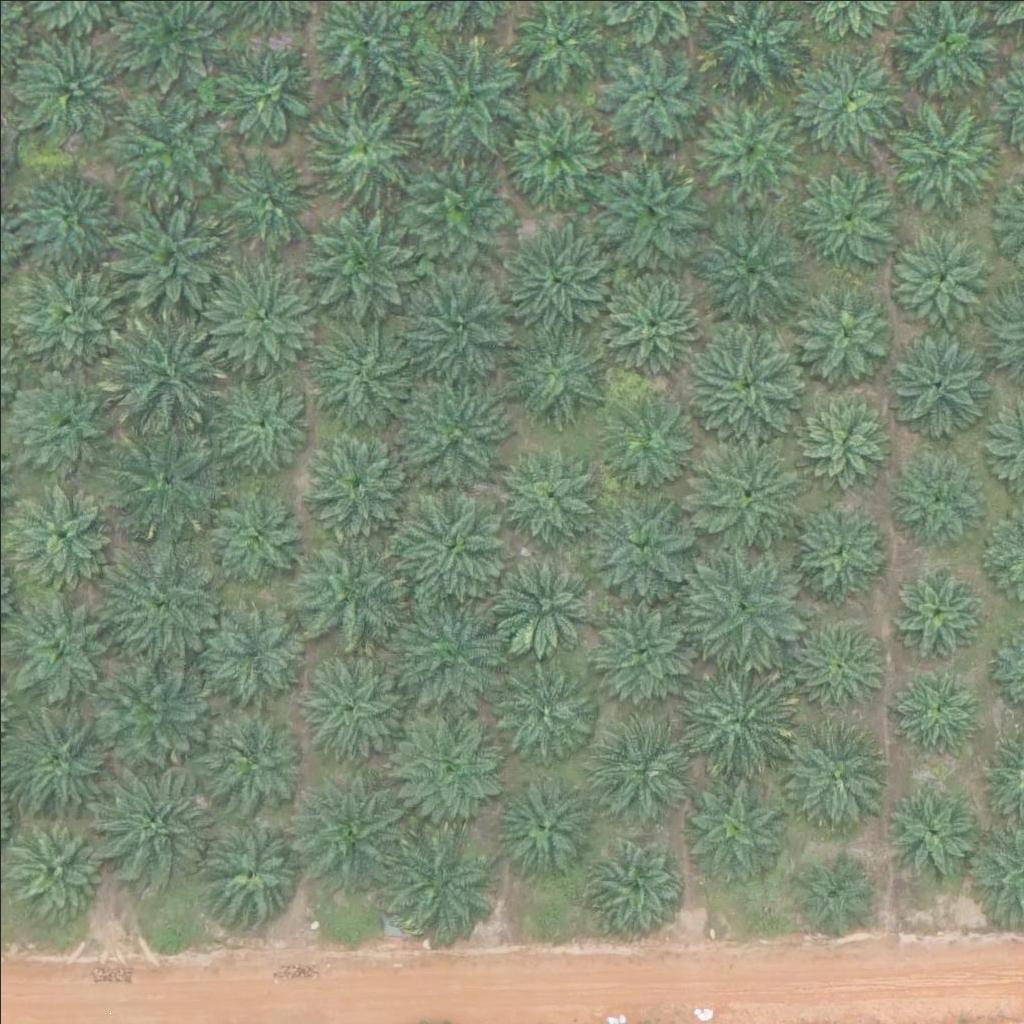Kelapa_Sawit: (110, 193, 223, 307), (216, 32, 329, 146), (304, 425, 417, 539), (310, 92, 423, 206), (694, 92, 807, 206), (879, 327, 992, 440), (17, 255, 130, 368), (6, 698, 119, 811), (92, 652, 205, 765), (112, 548, 225, 661), (194, 705, 307, 818), (301, 769, 414, 882), (300, 648, 413, 761), (307, 308, 420, 421), (387, 820, 500, 933), (394, 703, 507, 816), (390, 488, 503, 601), (397, 386, 510, 499), (502, 304, 615, 417), (687, 543, 800, 656), (692, 436, 805, 549), (687, 332, 800, 445), (699, 206, 812, 319), (786, 716, 899, 829), (886, 93, 999, 206), (197, 814, 309, 928), (305, 200, 417, 314), (400, 276, 512, 390), (500, 89, 612, 203), (682, 770, 794, 884), (6, 35, 118, 148), (7, 367, 119, 480), (99, 764, 211, 877), (106, 424, 218, 537), (105, 311, 217, 424), (113, 84, 225, 197), (204, 258, 316, 371), (286, 536, 398, 649), (393, 592, 505, 705), (411, 33, 523, 146), (482, 541, 594, 654), (497, 228, 609, 341), (595, 35, 707, 148), (594, 151, 706, 264), (583, 492, 695, 605), (683, 656, 795, 769), (887, 438, 999, 551), (16, 158, 116, 259), (9, 816, 109, 917), (214, 145, 314, 246), (214, 378, 314, 479), (201, 594, 301, 695), (491, 780, 591, 881), (492, 651, 592, 752), (499, 442, 599, 543), (600, 390, 700, 491), (590, 603, 690, 704), (802, 48, 902, 149), (794, 164, 894, 265), (794, 288, 894, 389), (794, 393, 894, 494), (785, 498, 885, 599), (884, 561, 984, 662), (896, 224, 996, 325), (207, 480, 307, 580), (413, 163, 513, 263), (600, 272, 700, 372), (597, 717, 697, 817), (586, 834, 686, 934), (888, 664, 988, 764), (881, 788, 981, 888), (789, 850, 877, 938), (796, 622, 884, 710)
